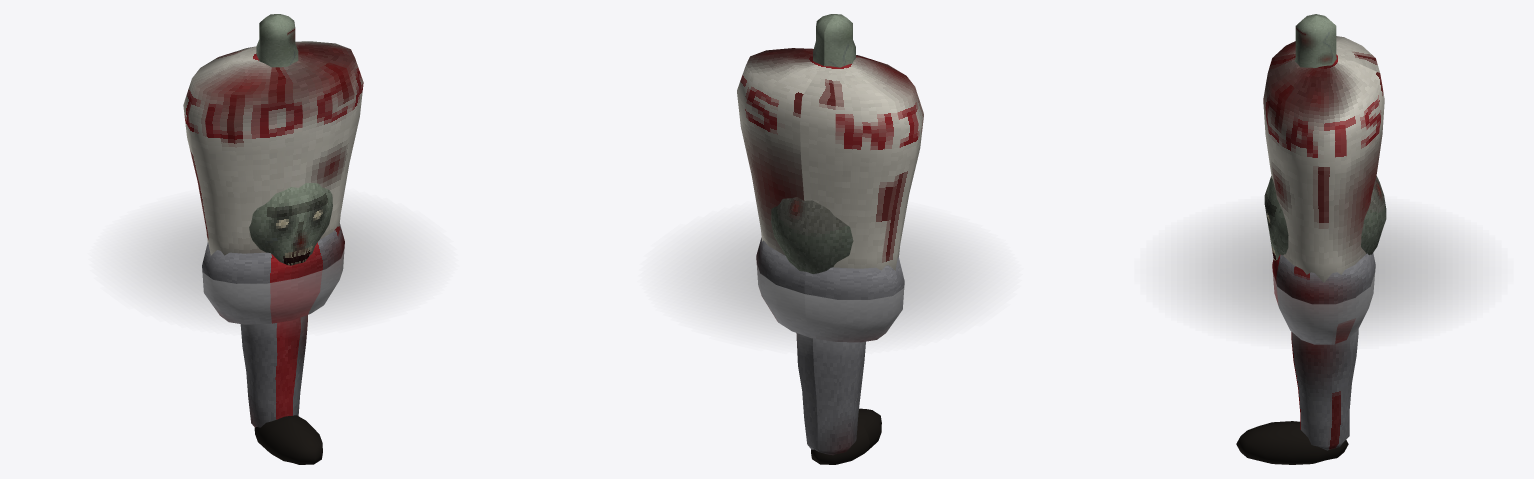
3 views of the same model, side by side, from view 1: azimuth 30°, elevation 25°; view 2: azimuth 150°, elevation 25°; view 3: azimuth 270°, elevation 25° (orthographic). The views are drawn at different scales.
Parts seen in each view (by area): view 1: spine__x__1, root__x__8, core__x__0, legL1__x__9, head__h__3, legL2__x__11, spine__x__2; view 2: spine__x__1, root__x__8, core__x__0, legL1__x__9, head__h__3, spine__x__2, legL2__x__11; view 3: root__x__8, spine__x__1, core__x__0, legL1__x__9, legL2__x__11, head__h__3, spine__x__2.
Part boxes in pixels (x1,y1,x2,y2): spine__x__1: [183, 41, 363, 255]; root__x__8: [115, 200, 432, 326]; core__x__0: [202, 223, 344, 324]; legL1__x__9: [240, 315, 307, 427]; head__h__3: [249, 183, 332, 265]; legL2__x__11: [254, 415, 322, 464]; spine__x__2: [256, 14, 298, 67]; spine__x__1: [737, 48, 923, 270]; root__x__8: [665, 213, 995, 344]; core__x__0: [756, 237, 904, 342]; legL1__x__9: [796, 333, 865, 455]; head__h__3: [771, 197, 853, 273]; spine__x__2: [813, 14, 855, 67]; legL2__x__11: [811, 408, 881, 464]; root__x__8: [1159, 207, 1488, 340]; spine__x__1: [1263, 36, 1384, 282]; core__x__0: [1272, 253, 1375, 344]; legL1__x__9: [1291, 329, 1358, 450]; legL2__x__11: [1236, 421, 1348, 464]; head__h__3: [1264, 176, 1386, 260]; spine__x__2: [1294, 14, 1336, 67].
Bounding box in the file's own units: 0.9062 × 1.13 × 0.9062.
Materials: 6 (5 with a texture image).
